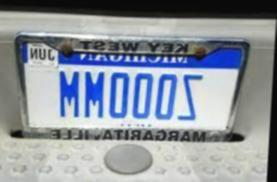License_Plate: (22, 34, 246, 141)
